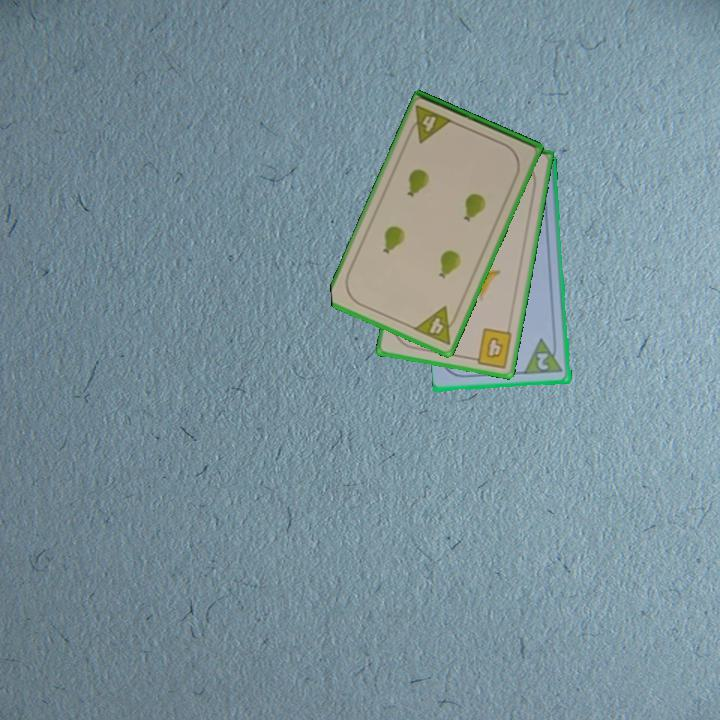2p: (522, 335, 566, 378)
4b: (467, 325, 515, 371)
4p: (410, 303, 462, 348), (404, 102, 456, 146)
